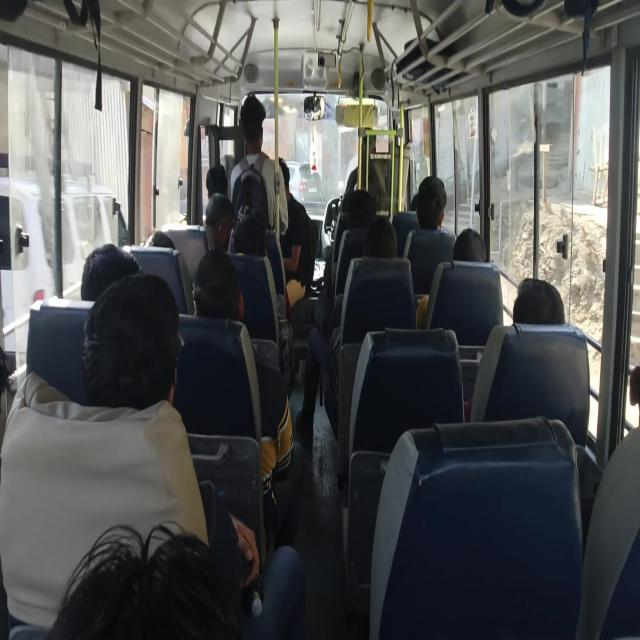person: (69, 549, 244, 640), (103, 279, 193, 413), (597, 331, 640, 516), (86, 236, 142, 316), (264, 180, 305, 286), (512, 274, 568, 349), (352, 210, 400, 283), (198, 270, 242, 334), (235, 84, 268, 157), (415, 171, 457, 223), (456, 226, 491, 271), (205, 198, 233, 249), (334, 184, 376, 218), (237, 227, 265, 274), (205, 155, 231, 204), (410, 178, 439, 219), (144, 218, 174, 256)
